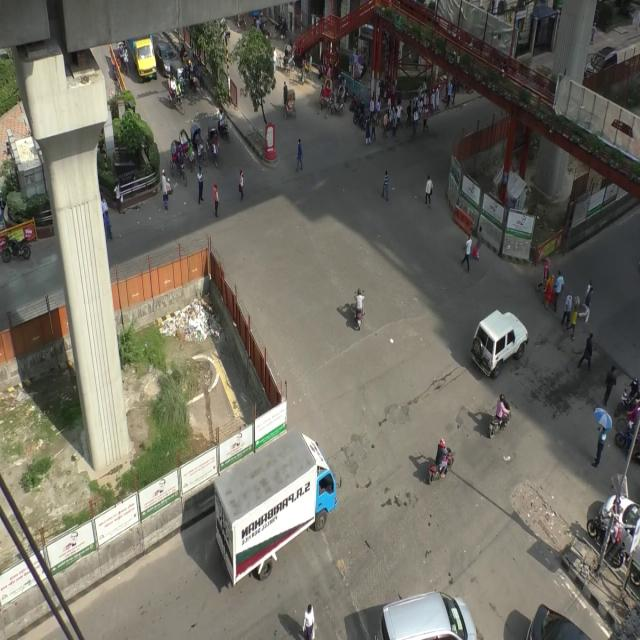Rikshaw-Py4o: (316, 74, 334, 119), (167, 70, 180, 117), (169, 135, 181, 180), (338, 77, 347, 119), (194, 116, 202, 162), (210, 118, 220, 154), (182, 117, 186, 159)
